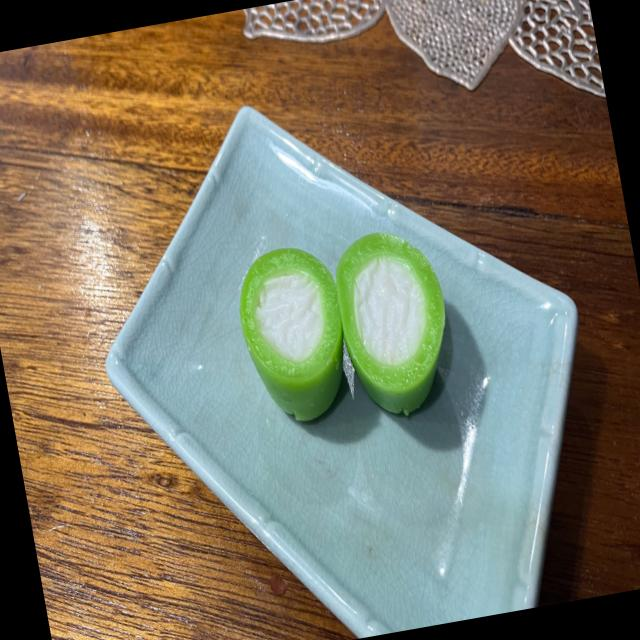nona-manis: (335, 232, 445, 415), (239, 247, 343, 421)
